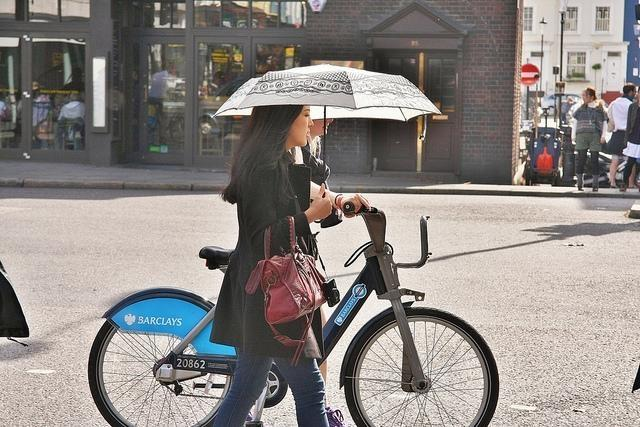bicycle: (82, 200, 502, 427)
